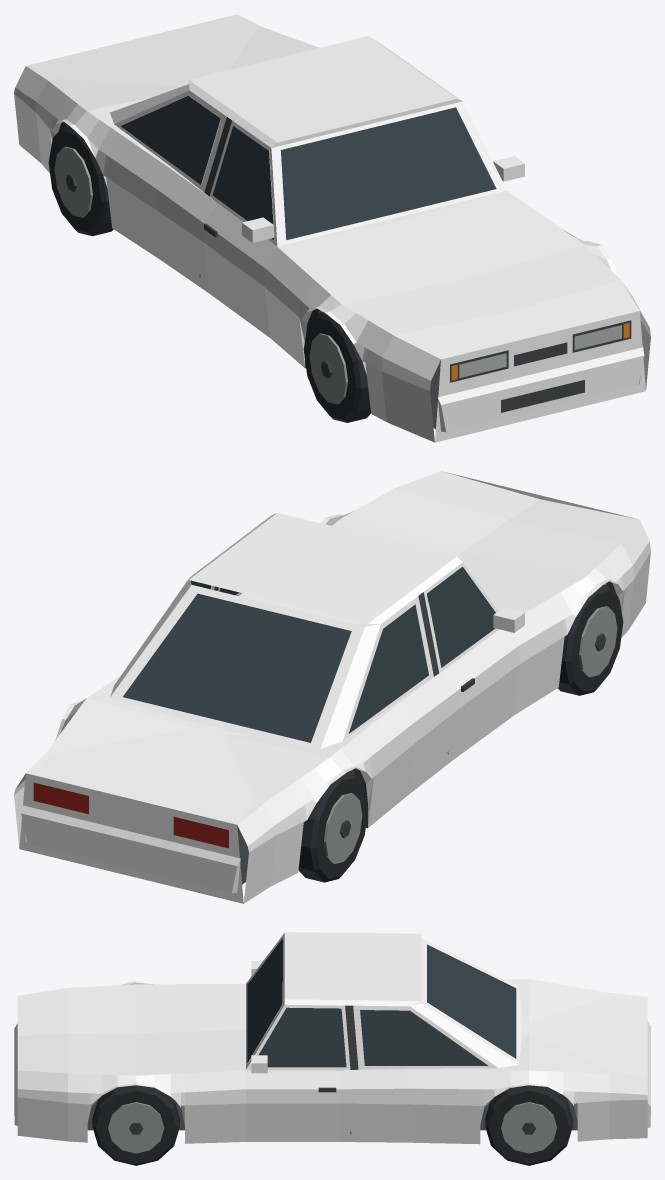
File: bancroft_sidewinder_s_96.glb
3 views of the same model, one above another, from view 1: azimuth 30°, elevation 25°; view 2: azimuth 150°, elevation 25°; view 3: azimuth 270°, elevation 25° (orthographic). The views are drawn at different scales.
Parts seen in each view (by area): view 1: bancroft_sidewinder_s_96; view 2: bancroft_sidewinder_s_96; view 3: bancroft_sidewinder_s_96.
Boxes of the visible parts, box(x1,y1,x2,y2) form: bancroft_sidewinder_s_96: box(14, 14, 650, 442); bancroft_sidewinder_s_96: box(14, 471, 650, 903); bancroft_sidewinder_s_96: box(14, 932, 650, 1165).
Bounding box in the file's own units: 1.82 × 1.23 × 4.7.
8 materials, 1 textured.
